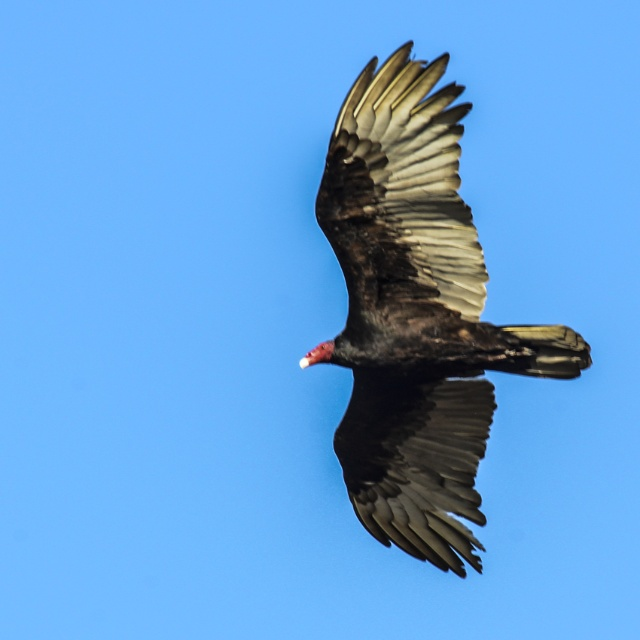Eagle: (299, 39, 593, 579)
